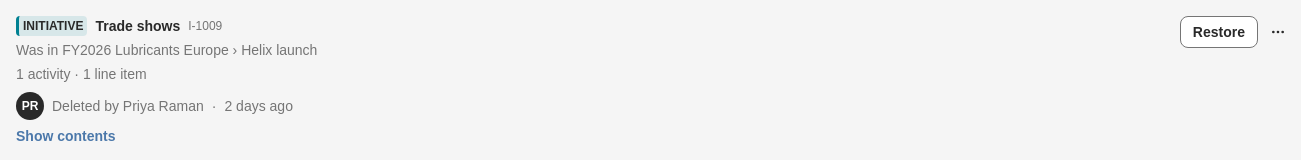
Scenario: BinRow › shows the level, name, ID, place, contents and who deleted it when (FR-015)
Expected: the text "INITIATIVE" is shown, [16,16,88,36]
Expected: the heading "Trade shows" is shown, [96,16,180,36]
Hover over the button with aria-label "2 days ago, 17 Oct 2026, 10:00" at point(259, 106), box [224,94,293,118]
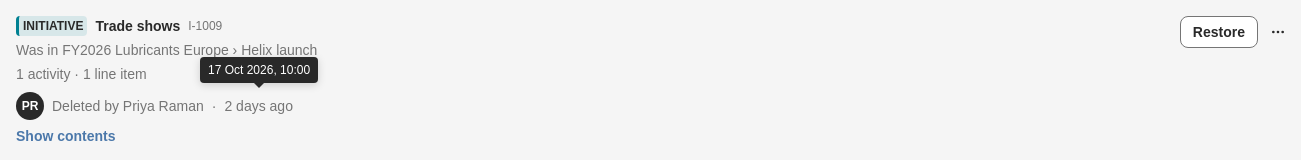
Expected: the tooltip reads "17 Oct 2026, 10:00", [208,63,310,77]
